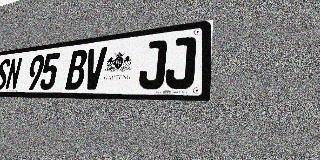5: (39, 52, 60, 90)
9: (25, 54, 45, 90)
B: (65, 49, 88, 90)
J: (164, 36, 196, 89), (138, 39, 167, 89)
N: (4, 57, 23, 90)
S: (0, 58, 11, 90)
V: (82, 47, 107, 89)
